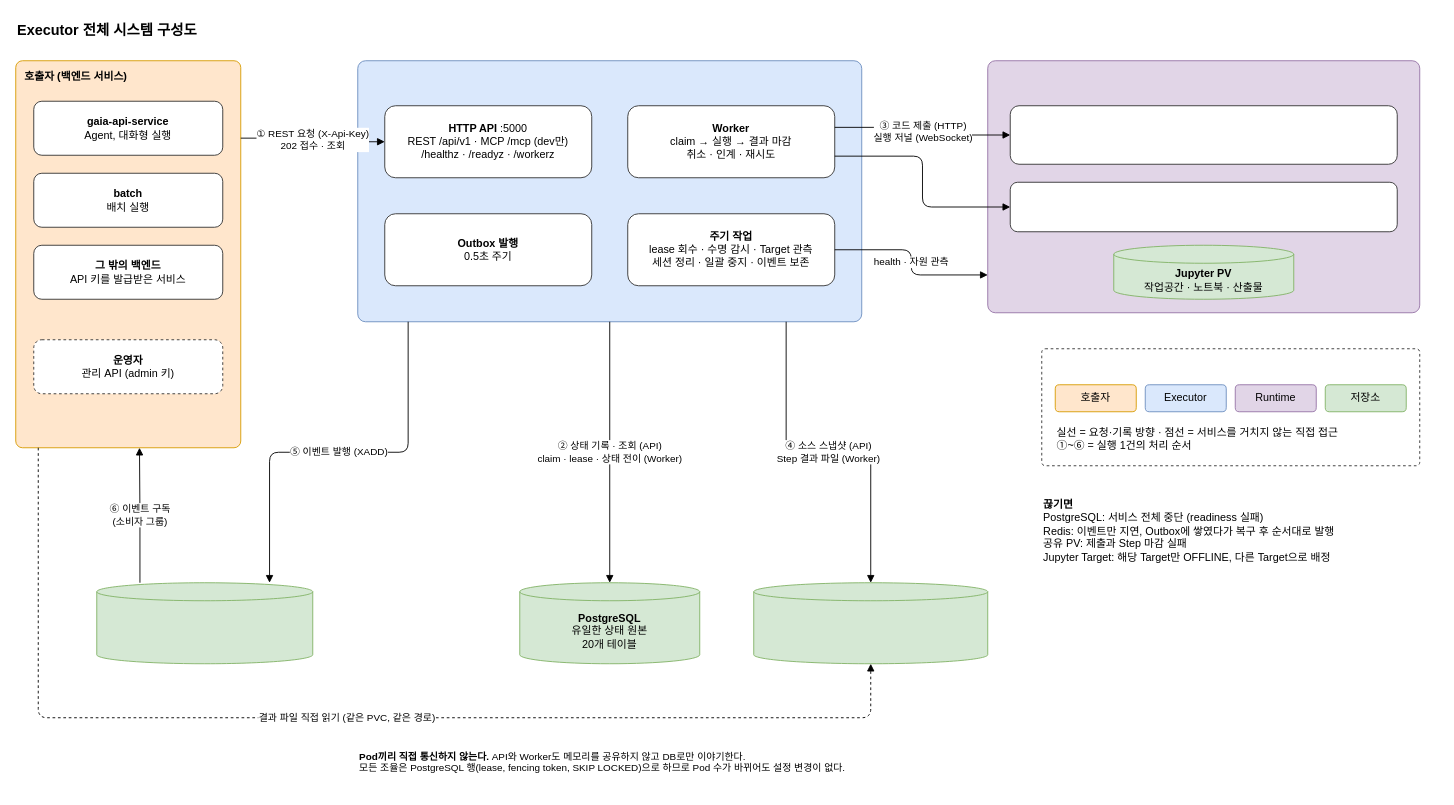
The diagram is 1454 pixels wide and 805 high, and some of its shapes have lost their labels. Here are the shapes that lost their labels. From the top down, the box of each, then its label:
(1009, 105, 1397, 164): INTERACTIVE 풀 Jupyter Server + Executor 전용 확장 커널 = 실행 1건
(357, 60, 862, 322): Executor Pod × N (컨테이너 1개, 프로세스 1개: API + Worker)
(1009, 181, 1397, 232): BATCH 풀 Jupyter Server + Executor 전용 확장
(987, 60, 1420, 313): Jupyter Runtime Target (등록된 Jupyter 서버들)
(1041, 348, 1420, 466): 범례
(96, 582, 313, 664): Redis 8 (prd는 Sentinel) Stream executor.events.<tenant>
(753, 582, 988, 664): 공유 PV (RWX, STORAGE_ROOT) 소스 스냅샷 · Step 결과 파일
